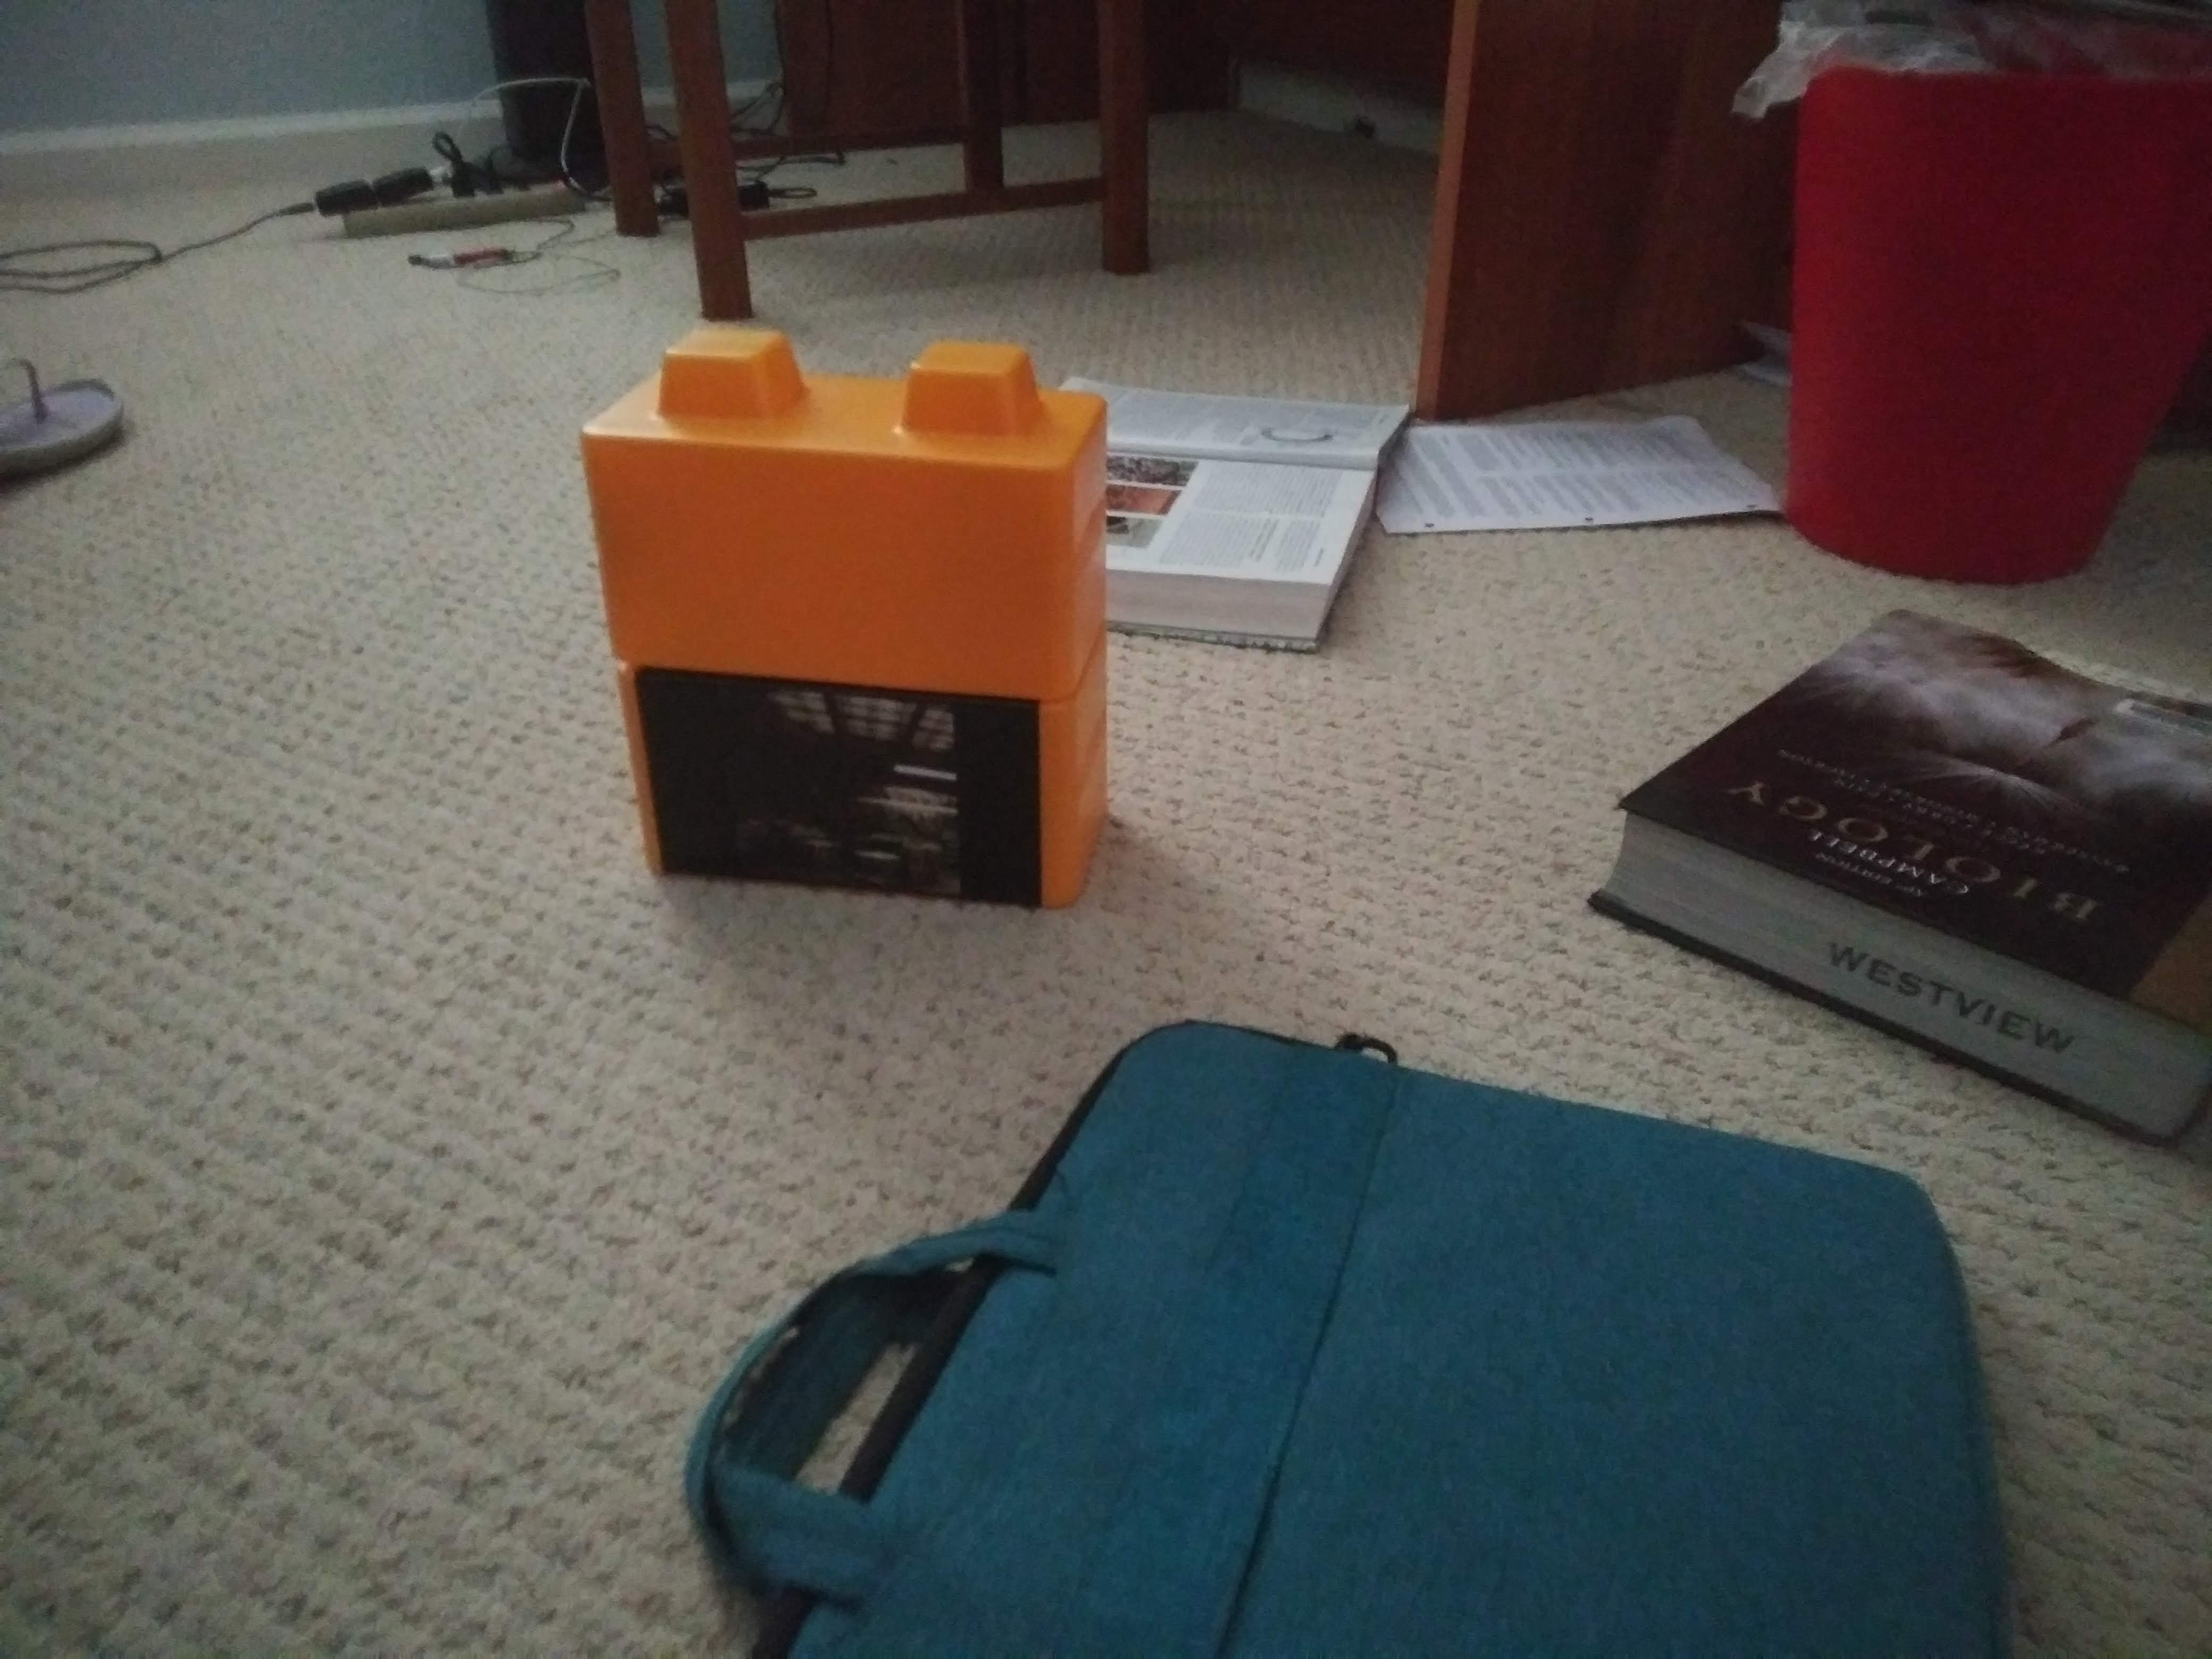skystone: (610, 676, 1090, 910)
stone: (573, 375, 1118, 669)
